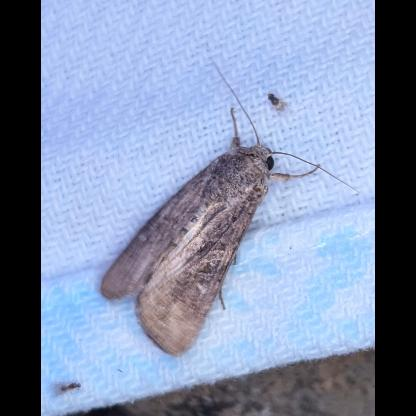Fall Armyworm Moth: (98, 75, 362, 359)
